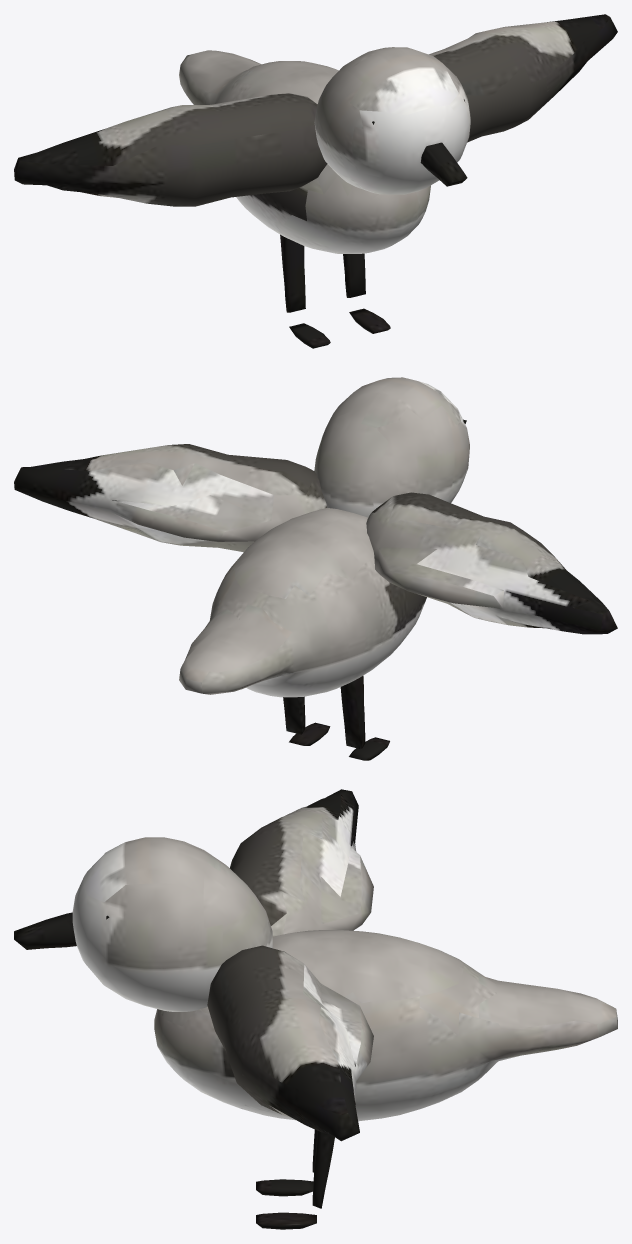
File: sandpiper.glb
3 renders of one model, top to bottom at view 1: azimuth 30°, elevation 25°; view 2: azimuth 150°, elevation 25°; view 3: azimuth 270°, elevation 25°, orthographic. The views are drawn at different scales.
Parts seen in each view (by area): view 1: wing0, head, sandpiper, wing1, leg0, leg1; view 2: sandpiper, wing1, wing0, head, leg0, leg1; view 3: sandpiper, head, wing1, wing0, leg1, leg0.
Part boxes in pixels (x1,y1,x2,y2): wing0: (14,93,327,206); head: (314,47,470,194); sandpiper: (179,50,430,253); wing1: (429,14,617,142); leg0: (280,234,330,348); leg1: (343,253,390,333); sandpiper: (179,508,426,697); wing1: (14,444,326,552); wing0: (366,492,617,634); head: (314,377,469,517); leg0: (340,676,389,760); leg1: (283,696,330,745); sandpiper: (154,930,617,1121); head: (14,837,272,1011); wing1: (207,945,373,1141); wing0: (230,789,373,936); leg1: (256,1131,334,1229); leg0: (256,1129,317,1196).
Bounding box in the file's own units: 0.2013 × 0.102 × 0.1537.
1 material, 1 textured.
